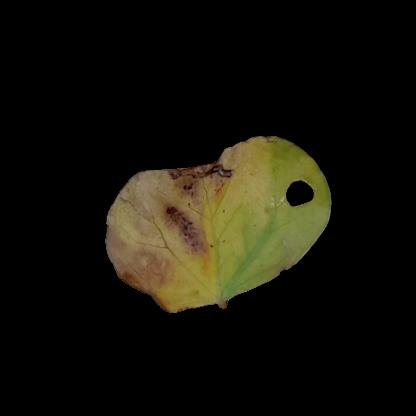curl_stage1: (218, 146, 271, 244), (162, 248, 242, 308), (160, 175, 218, 251), (266, 204, 320, 253), (122, 178, 166, 236), (118, 236, 159, 287), (265, 144, 302, 185)
